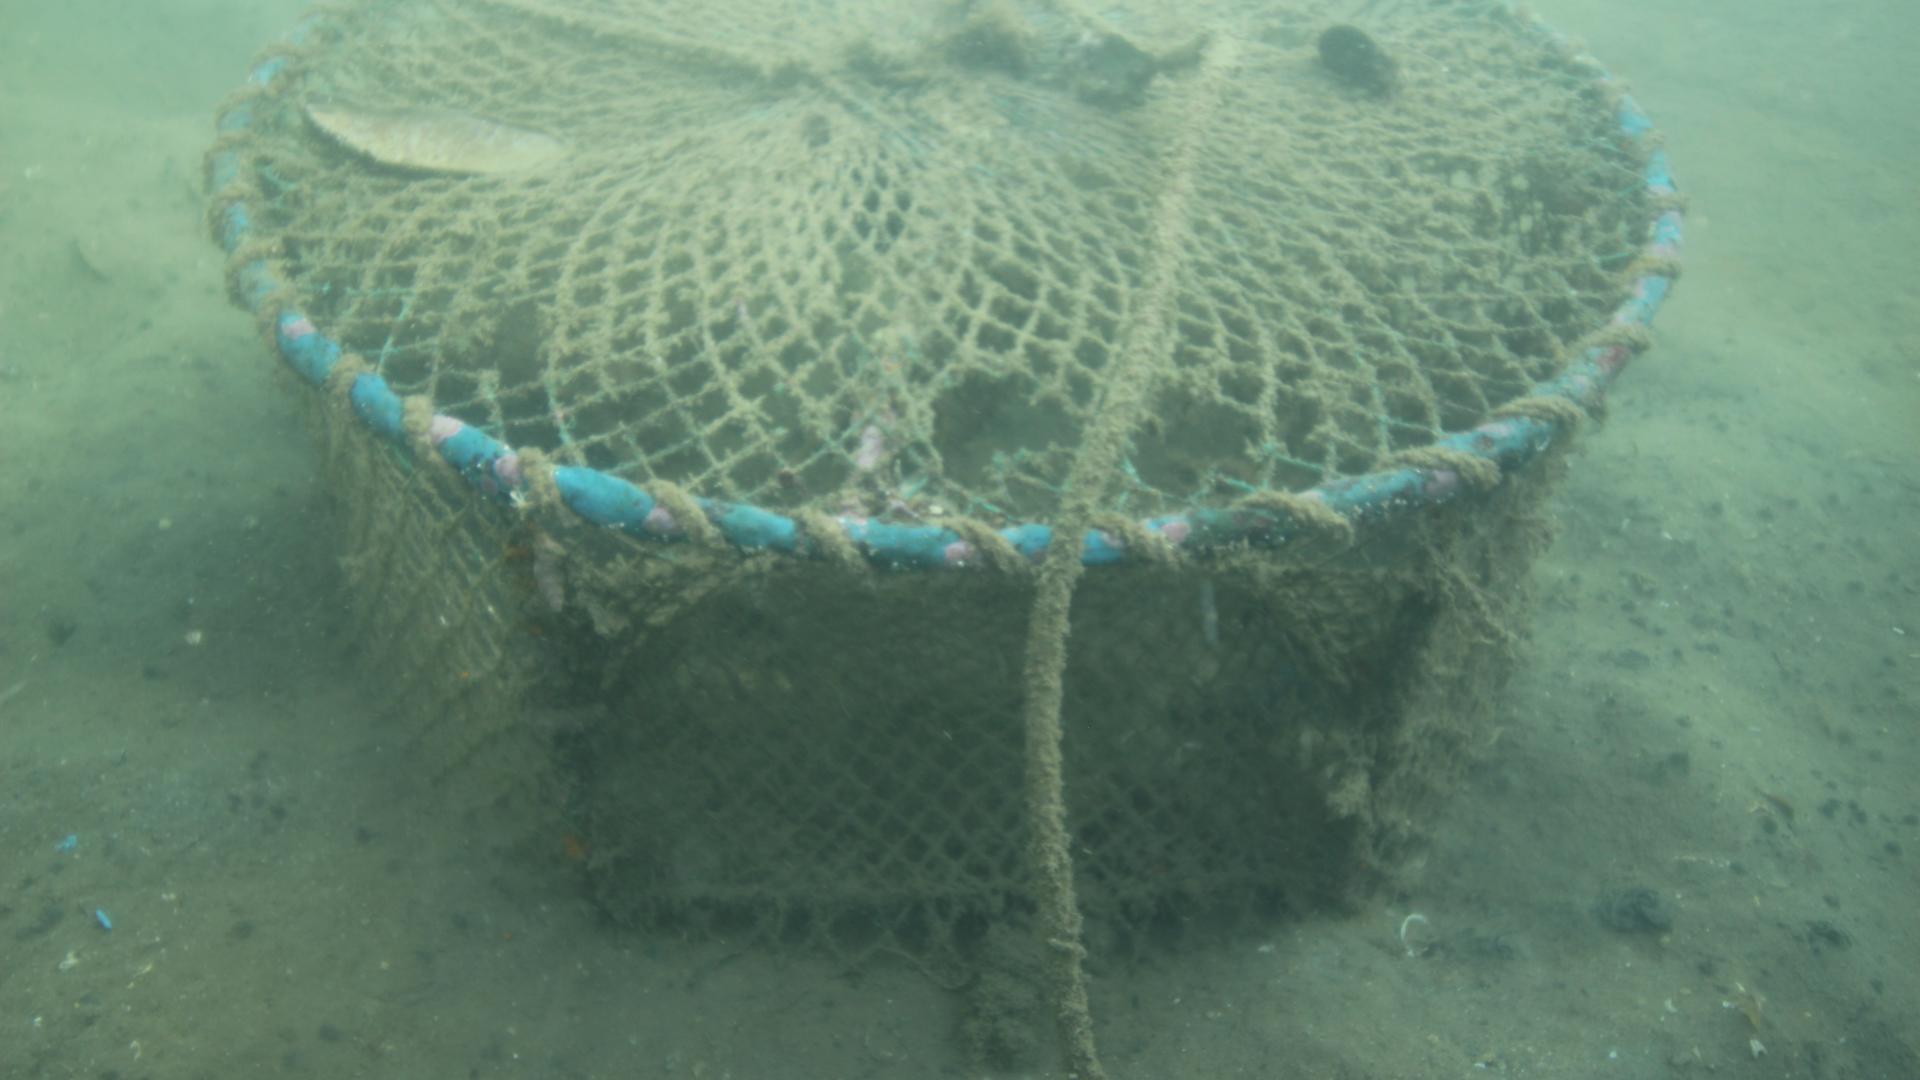circular fish trap: (198, 0, 1689, 986)
